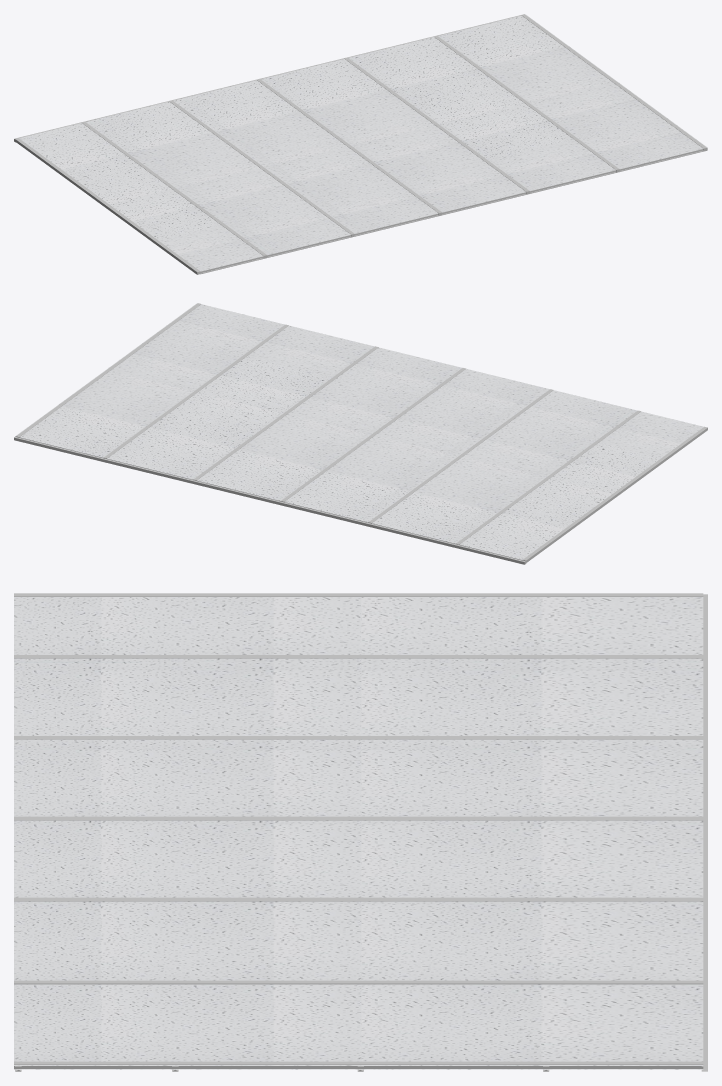
File: Ceiling.FBX
The picture shows the model from 3 angles, top to bottom: view 1: azimuth 30°, elevation 25°; view 2: azimuth 150°, elevation 25°; view 3: azimuth 270°, elevation 25°; orthographic projection. The views are drawn at different scales.
Visible parts, largest first — view 1: Ceiling; view 2: Ceiling; view 3: Ceiling.
Part boxes in pixels (x1,y1,x2,y2): Ceiling: (14,14,707,274); Ceiling: (14,303,707,564); Ceiling: (14,593,707,1071).
Bounding box in the file's own units: 884 × 5.38 × 549.
Materials: 1 (1 with a texture image).
